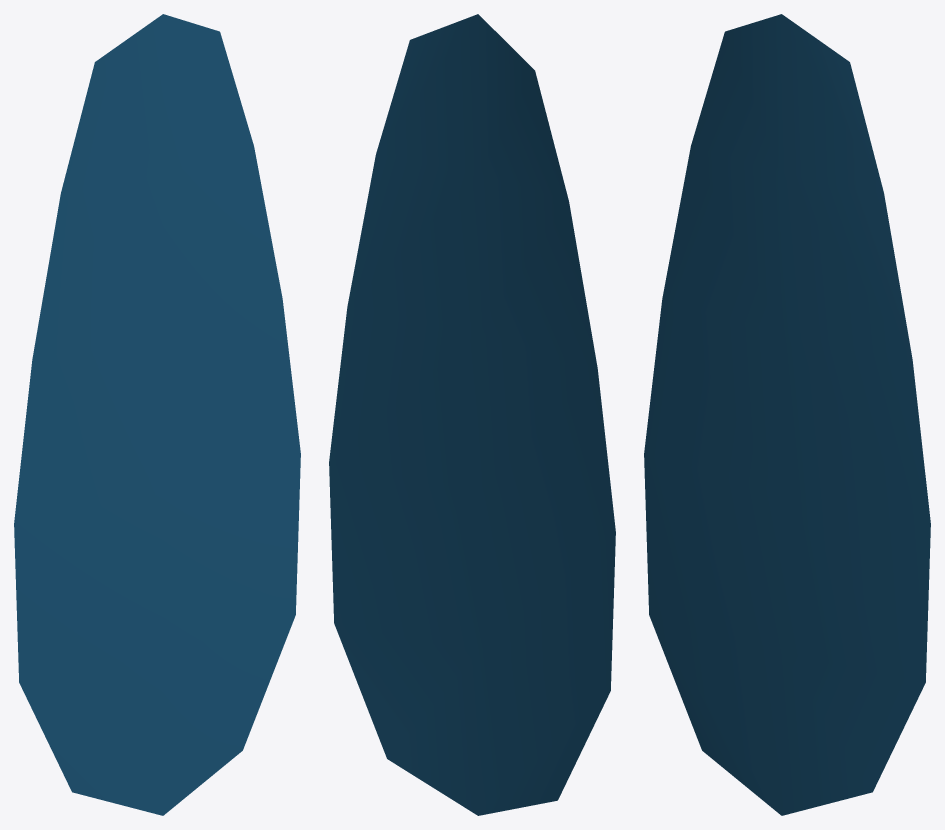
Rendered from budgie_feather_flight_secondary_001.obj.
3 views of the same model, side by side, from view 1: azimuth 30°, elevation 25°; view 2: azimuth 150°, elevation 25°; view 3: azimuth 330°, elevation 25° (orthographic).
Visible parts, largest first — view 1: feather_flight_secondary_001; view 2: feather_flight_secondary_001; view 3: feather_flight_secondary_001.
Boxes of the visible parts, x1=… form: feather_flight_secondary_001: x1=14, y1=14, x2=300, y2=815; feather_flight_secondary_001: x1=329, y1=14, x2=615, y2=815; feather_flight_secondary_001: x1=644, y1=14, x2=930, y2=815.
Size of the model in its own units: 0.00932 by 0.0249 by 0.000321.
